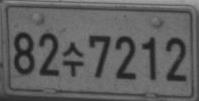1: (139, 36, 161, 80)
2: (113, 34, 136, 80), (164, 36, 187, 82), (38, 32, 59, 76)
7: (87, 34, 111, 78)
8: (12, 31, 36, 75)
수: (62, 40, 84, 77)
